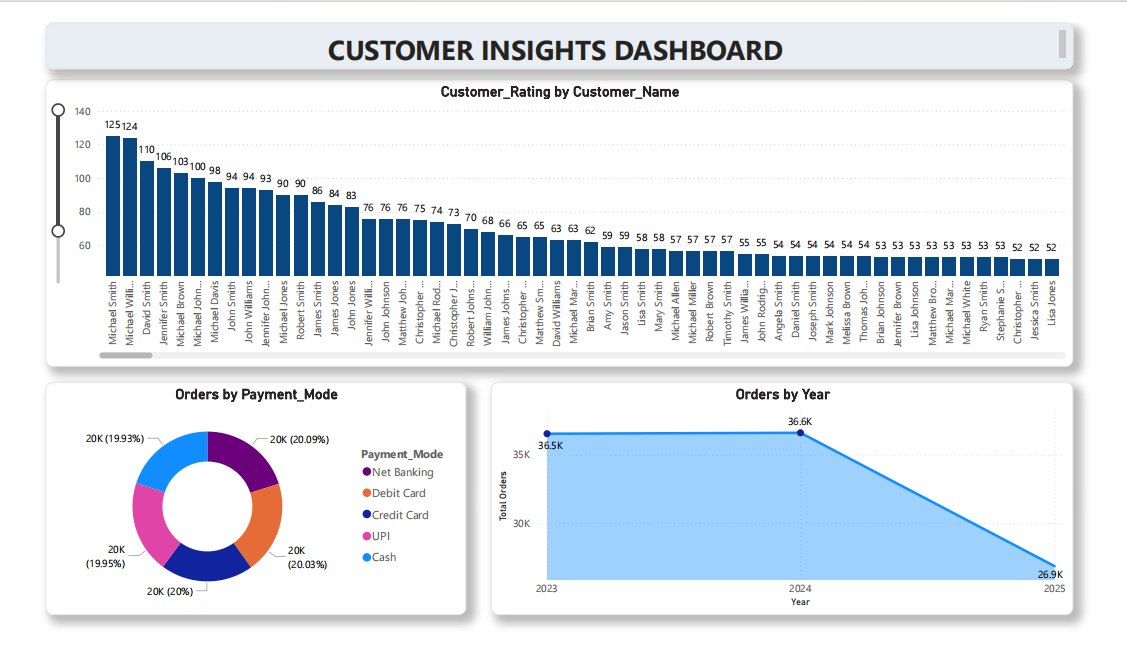

The page's visual inventory and layout, read from the dashboard file:
{"tool":"powerbi","page":{"name":"Customer Insights","canvas":[1280,720],"ordinal":3},"visuals":[{"type":"columnChart","title":"Customer_Rating by Customer_Name","fields":{"Y":["Sum(big_sales_dataset_100k.Customer_Rating)"],"Category":["big_sales_dataset_100k.Customer_Name"]},"box":[16.6,0,1239,337.9],"z":0},{"type":"donutChart","title":" Orders by Payment_Mode","fields":{"Category":["big_sales_dataset_100k.Payment_Mode"],"Y":["big_sales_dataset_100k.Total Orders"]},"box":[33.1,359.5,495.3,337.9],"z":1000},{"type":"areaChart","title":" Orders by Year","fields":{"Category":["big_sales_dataset_100k.Order_Date.Variation.Date Hierarchy.Year","big_sales_dataset_100k.Order_Date.Variation.Date Hierarchy.Quarter","big_sales_dataset_100k.Order_Date.Variation.Date Hierarchy.Month","big_sales_dataset_100k.Order_Date.Variation.Date Hierarchy.Day"],"Y":["big_sales_dataset_100k.Total Orders"]},"box":[558.2,359.5,684.1,337.9],"z":2000}]}

Visuals, with their boxes in screenshot pixels (x1, y1, x2, y2), scaled from the page's 1280x720 canvas onto the 1127x652 screenshot:
"Customer_Rating by Customer_Name" columnChart: (15, 0, 1106, 306)
" Orders by Payment_Mode" donutChart: (29, 326, 465, 632)
" Orders by Year" areaChart: (491, 326, 1094, 632)
